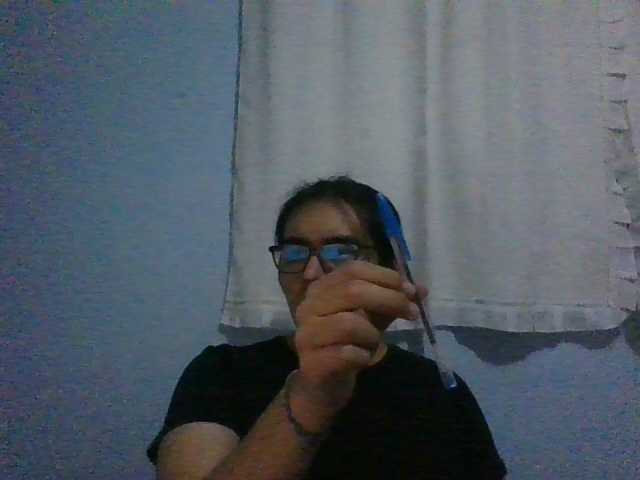pluma: (376, 192, 457, 390)
